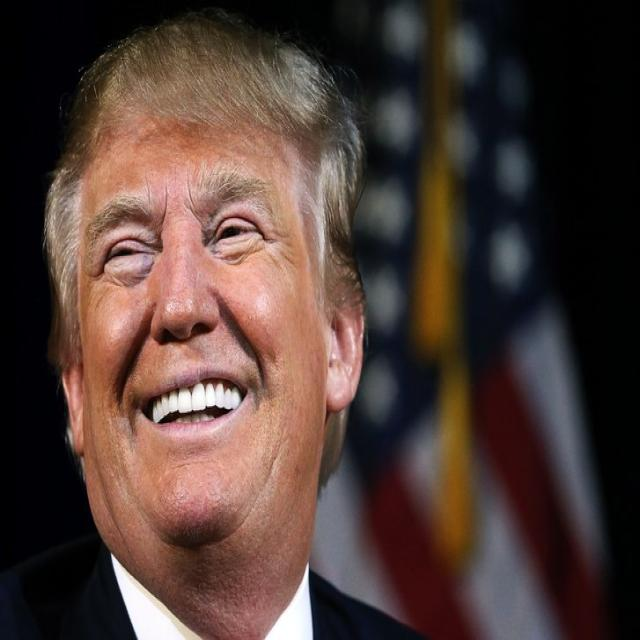human: (23, 12, 450, 640)
